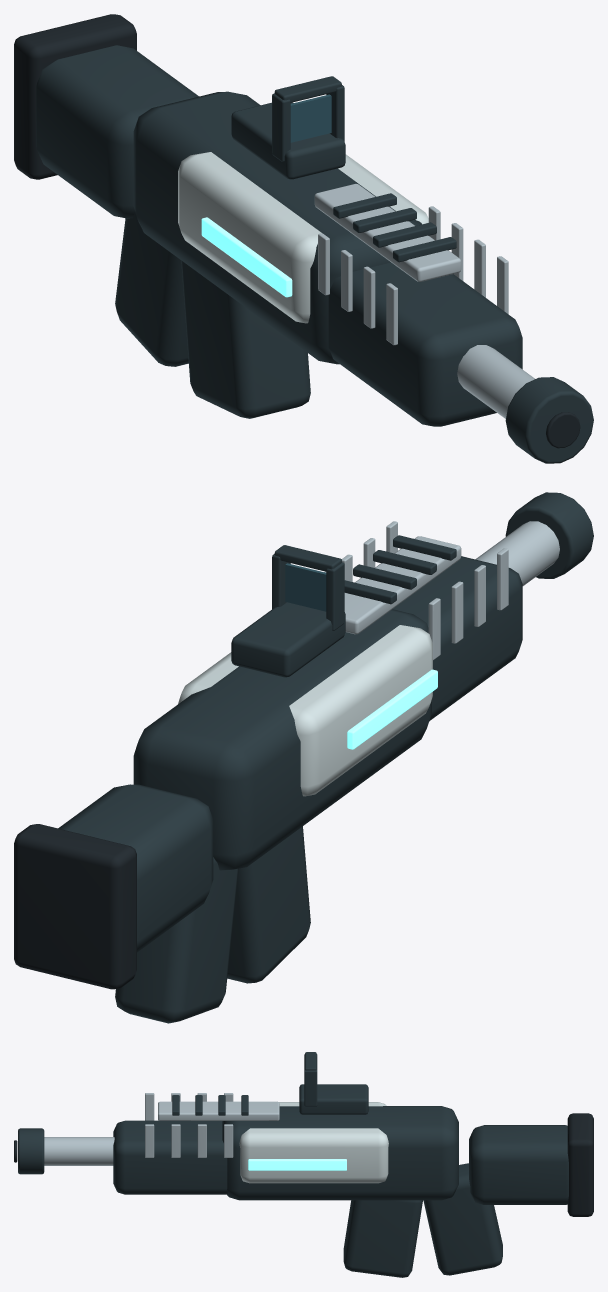
Rendered from pulse-rifle.glb.
The picture shows the model from 3 angles, top to bottom: view 1: azimuth 30°, elevation 25°; view 2: azimuth 150°, elevation 25°; view 3: azimuth 270°, elevation 25°; orthographic projection. The views are drawn at different scales.
Visible parts, largest first — view 1: Graphite, Pearl ceramic, Brushed alloy, Tread rubber, Ion teal, Smoked glass; view 2: Graphite, Tread rubber, Pearl ceramic, Brushed alloy, Ion teal, Smoked glass; view 3: Graphite, Pearl ceramic, Brushed alloy, Tread rubber, Ion teal.
Part boxes in pixels (left/top/right/bottom): Graphite: left=36, top=45, right=593, bottom=463; Pearl ceramic: left=178, top=152, right=428, bottom=323; Brushed alloy: left=314, top=183, right=534, bottom=418; Tread rubber: left=14, top=14, right=580, bottom=448; Ion teal: left=201, top=217, right=292, bottom=297; Smoked glass: left=290, top=94, right=331, bottom=142; Graphite: left=58, top=492, right=593, bottom=1023; Tread rubber: left=14, top=824, right=136, bottom=989; Pearl ceramic: left=178, top=625, right=432, bottom=796; Brushed alloy: left=324, top=521, right=559, bottom=660; Ion teal: left=347, top=669, right=437, bottom=749; Smoked glass: left=285, top=563, right=326, bottom=611; Graphite: left=18, top=1052, right=568, bottom=1277; Pearl ceramic: left=239, top=1102, right=388, bottom=1183; Brushed alloy: left=44, top=1093, right=279, bottom=1165; Tread rubber: left=14, top=1113, right=593, bottom=1216; Ion teal: left=248, top=1159, right=346, bottom=1170.
Size of the model in its own units: 0.31 by 0.707 by 1.76.
